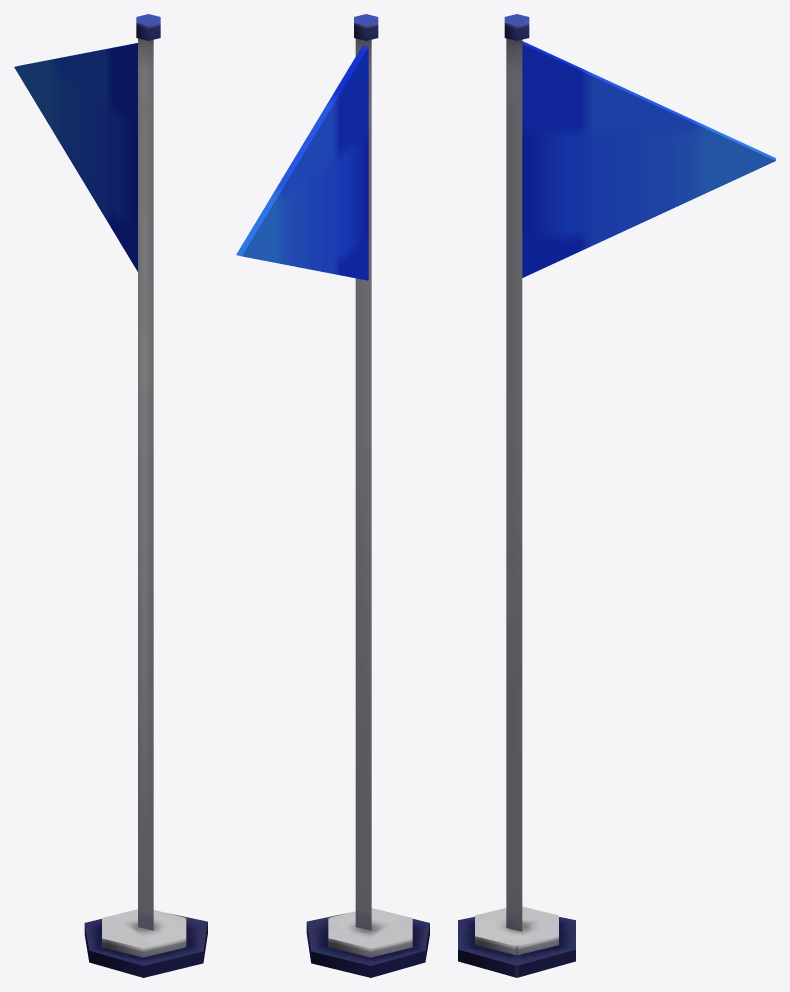
Rendered from my_autumnsports_01_flag_02.glb.
3 views of the same model, side by side, from view 1: azimuth 30°, elevation 25°; view 2: azimuth 150°, elevation 25°; view 3: azimuth 270°, elevation 25° (orthographic).
Parts seen in each view (by area): view 1: my_autumnsports_01_flag_02; view 2: my_autumnsports_01_flag_02; view 3: my_autumnsports_01_flag_02.
Part boxes in pixels (bbox=[...]): my_autumnsports_01_flag_02: bbox=[14, 14, 207, 977]; my_autumnsports_01_flag_02: bbox=[236, 14, 429, 977]; my_autumnsports_01_flag_02: bbox=[458, 14, 775, 977].
Size of the model in its own units: 0.00128 by 0.00953 by 0.00296.
Materials: 1 (1 with a texture image).
